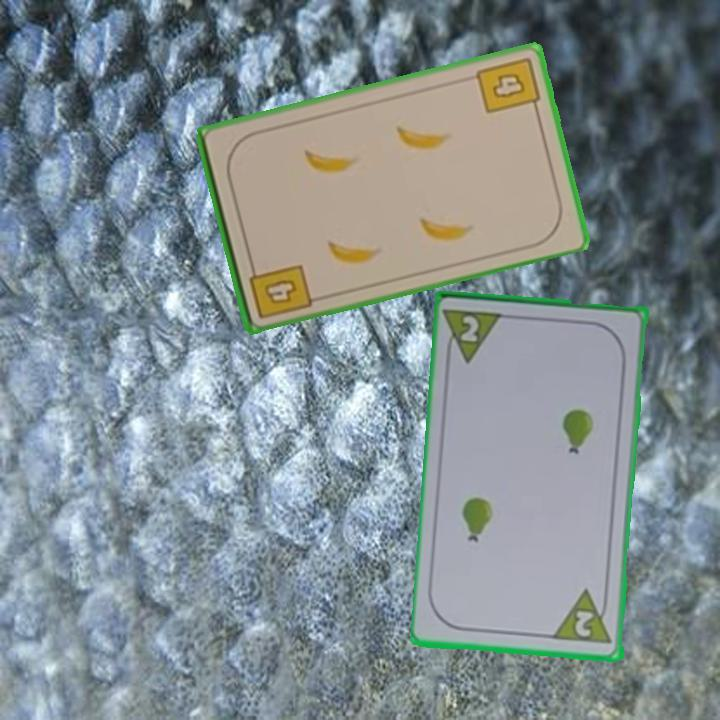2p: (442, 305, 508, 366), (551, 586, 615, 648)
4b: (472, 52, 543, 117), (245, 257, 314, 322)
